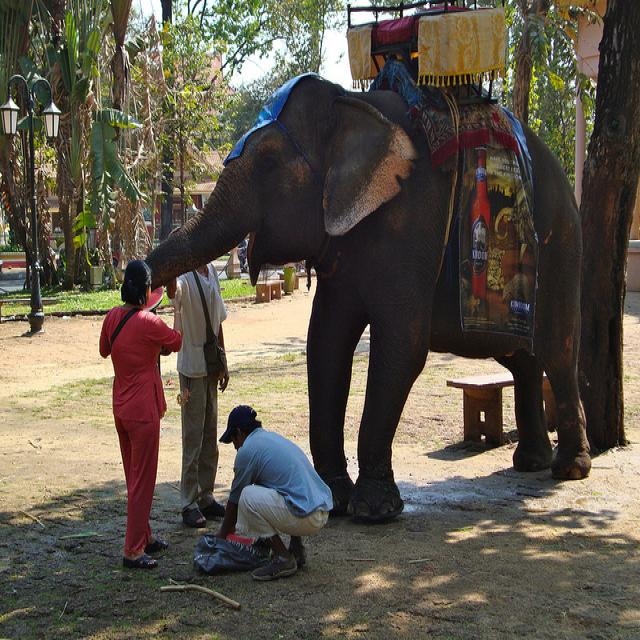Elephant: (139, 71, 592, 521)
person: (98, 259, 182, 568), (214, 404, 333, 580), (166, 260, 229, 528)
